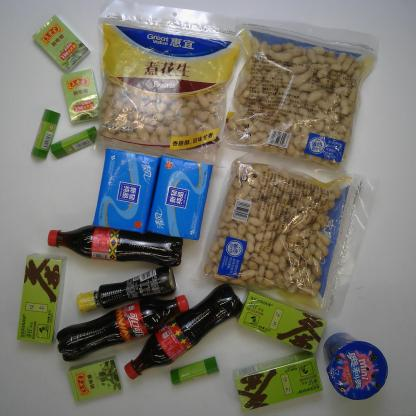Candy: (25, 8, 93, 79), (58, 356, 128, 406), (53, 66, 108, 129)
Dessert: (317, 328, 402, 409)
Dried Food: (188, 152, 390, 318), (215, 6, 382, 179), (88, 4, 242, 171)
Drink: (116, 278, 262, 381), (52, 278, 195, 368), (39, 216, 190, 274)
Instant Drink: (228, 285, 330, 365), (234, 344, 331, 410), (13, 251, 70, 353)
Seasoner: (75, 259, 180, 317)
Stationery: (48, 121, 102, 172), (159, 353, 225, 391), (26, 108, 62, 164)
Tissue: (148, 139, 218, 251), (92, 138, 162, 239)
